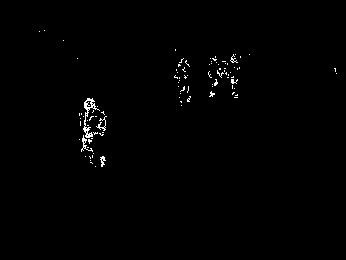person: (77, 97, 109, 175), (175, 56, 193, 106)
